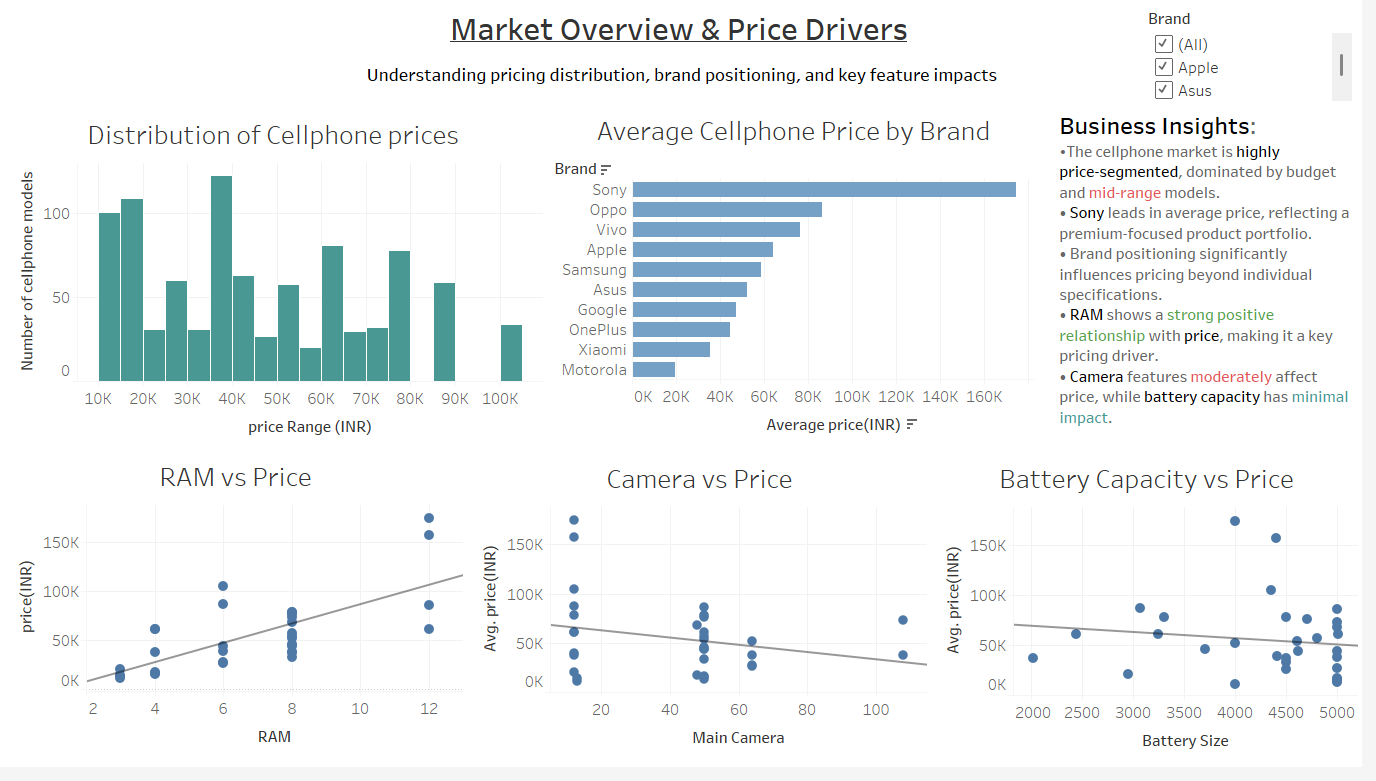

This screenshot's page, from the dashboard's own definition file:
{"tool":"tableau","page":{"name":"Market Overview & Price Drivers","canvas":[1366,768],"ordinal":0},"visuals":[{"type":"title","box":[8,8,1350,41]},{"type":"filter","title":"Average Price by Brand","param":"[federated.1wcqira0z89lch0zod5me197oe4k].[none:brand:nk]","box":[1152,9,204,93]},{"type":"text","box":[223,51,926,48]},{"type":"worksheet","title":"Average Price by Brand","mark":"Automatic","rows":["brand"],"cols":["price(INR)"],"box":[556,110,483,337]},{"type":"text","box":[1060,110,301,341]},{"type":"worksheet","title":"Price Distribution by Range","mark":"Automatic","rows":["model"],"cols":["price(INR) (bin)"],"box":[13,114,534,331]},{"type":"worksheet","title":"RAM vs Price","mark":"Circle","rows":["price(INR)"],"cols":["RAM"],"box":[12,456,455,299]},{"type":"worksheet","title":"Camera vs Price","mark":"Circle","rows":["price(INR)"],"cols":["main camera"],"box":[476,458,455,298]},{"type":"worksheet","title":"Battery Capacity vs Price","mark":"Circle","rows":["price(INR)"],"cols":["battery size"],"box":[939,458,423,301]}]}

Visuals, with their boxes in screenshot pixels (x1, y1, x2, y2), scaled from the page's 1366x768 canvas onto the 1376x781 screenshot:
title: bbox=[8, 8, 1368, 50]
"Average Price by Brand" filter: bbox=[1160, 9, 1366, 104]
text: bbox=[225, 52, 1157, 101]
"Average Price by Brand" worksheet: bbox=[560, 112, 1047, 455]
text: bbox=[1068, 112, 1371, 459]
"Price Distribution by Range" worksheet: bbox=[13, 116, 551, 453]
"RAM vs Price" worksheet (Circle marks): bbox=[12, 464, 470, 768]
"Camera vs Price" worksheet (Circle marks): bbox=[479, 466, 938, 769]
"Battery Capacity vs Price" worksheet (Circle marks): bbox=[946, 466, 1372, 772]
